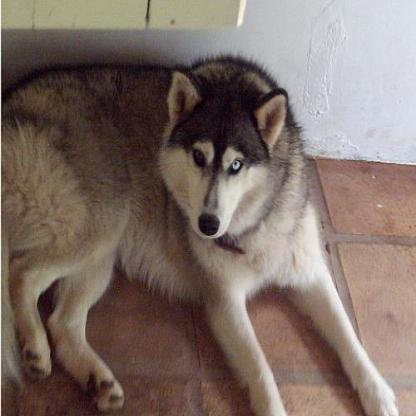Eskimo_dog: (2, 54, 397, 413)
